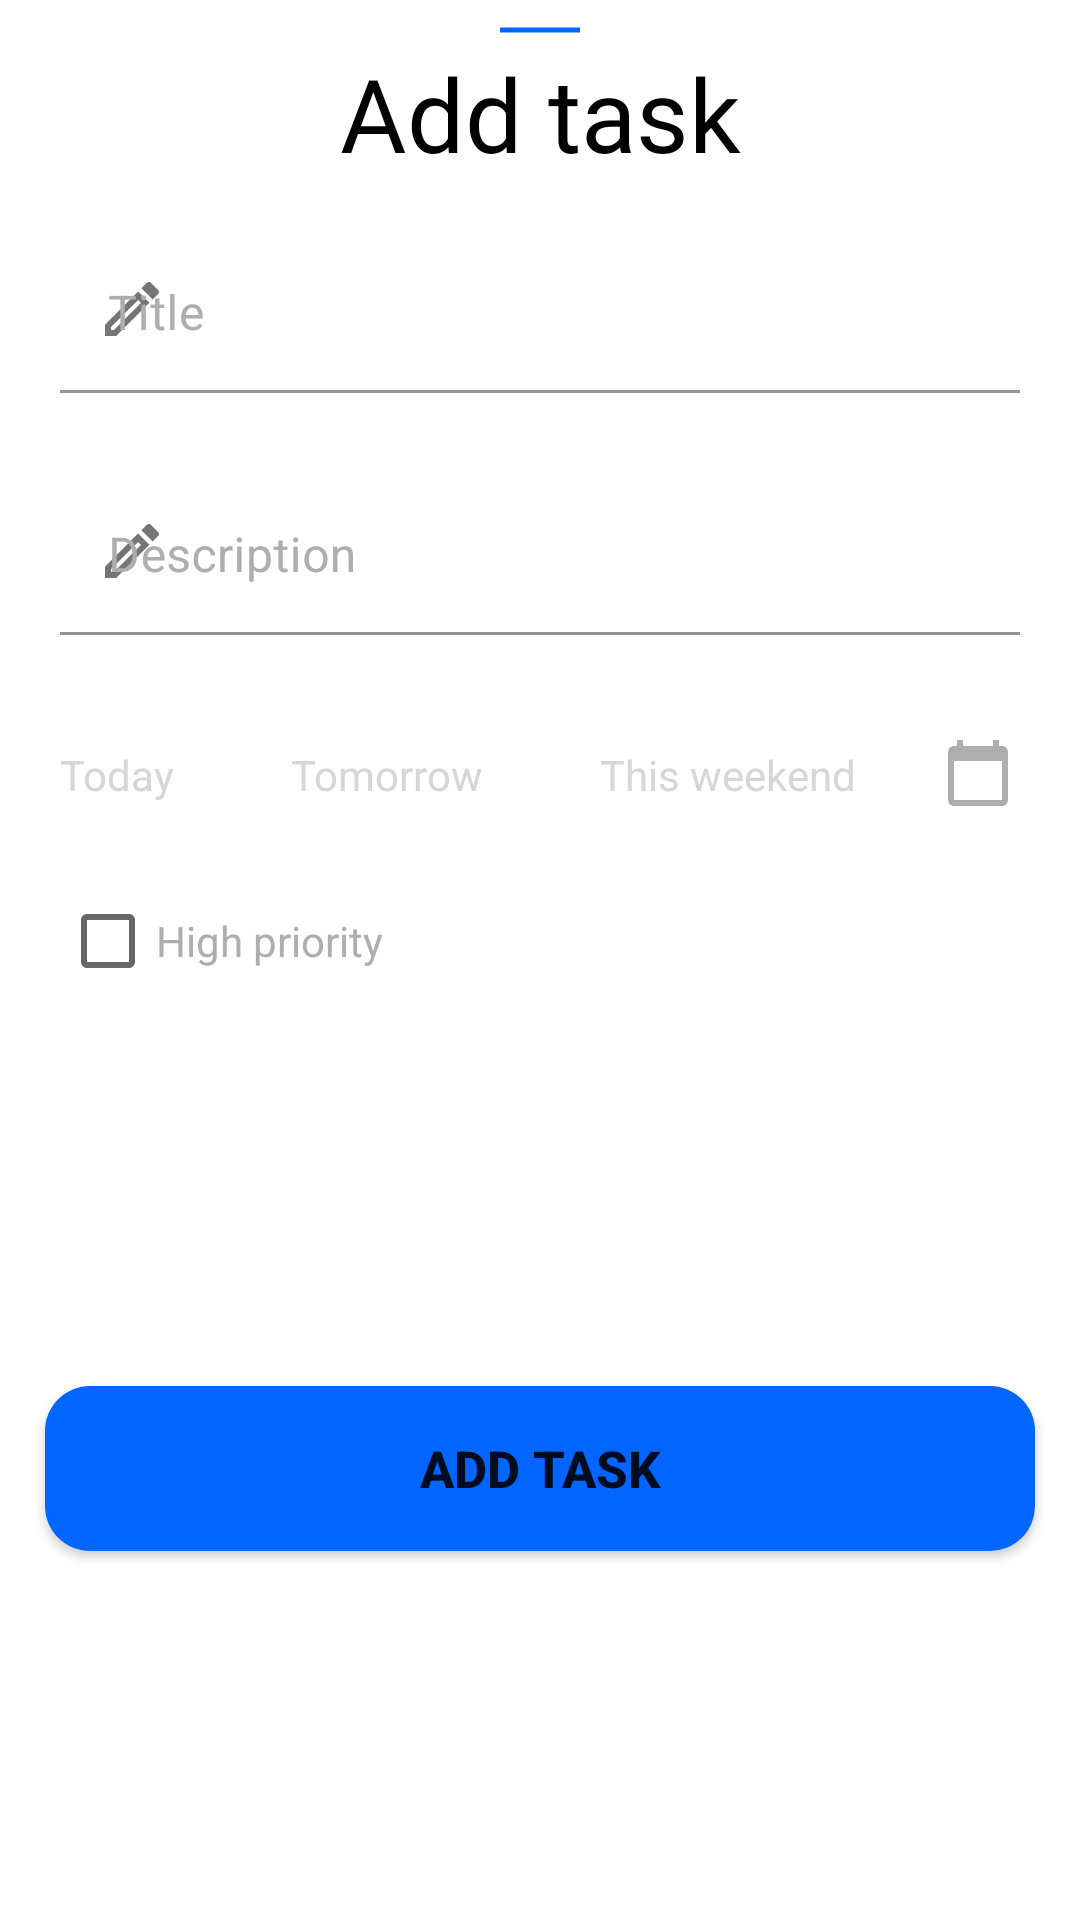

Screen size 1080px×1920px. Icon name, then its box in pixels as {"x1": x1, "y1": y1, "x2": x2, "y2": y2}:
calendar today: {"x1": 948, "y1": 740, "x2": 1008, "y2": 806}
